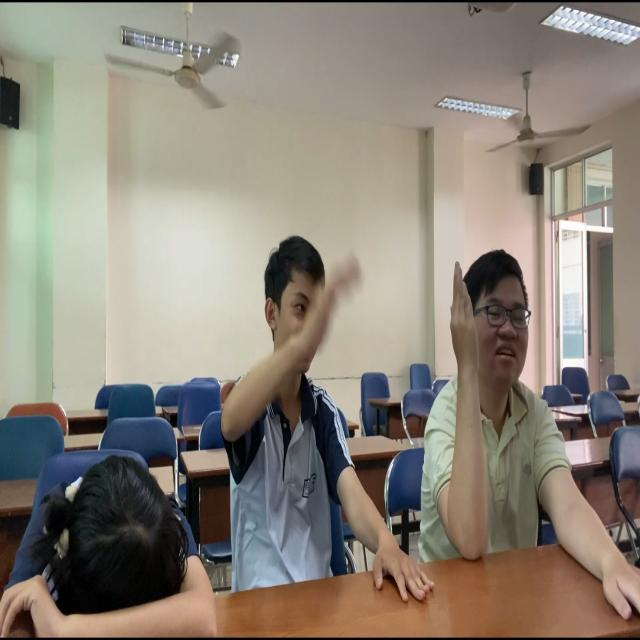raise_hand: (419, 228, 603, 566), (212, 221, 382, 586)
sleep: (1, 454, 219, 640)
